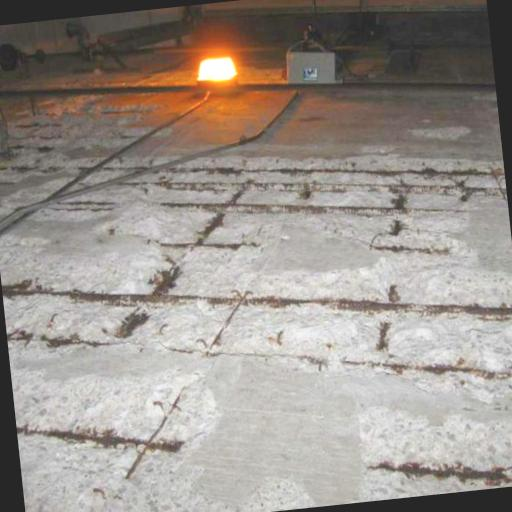spalling: (12, 243, 512, 380), (14, 125, 503, 222), (30, 395, 342, 512), (357, 418, 512, 498)
